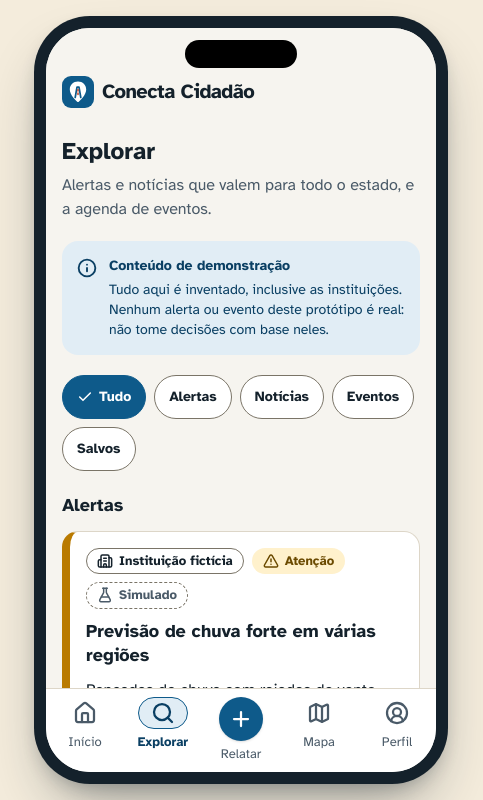
Estado como visitante › o filtro de eventos também mostra o que já aconteceu, identificado
Check: the text "Sessão de cinema ao ar livre" is not shown
Click the button "Eventos": x=373, y=397 [332, 375, 414, 419]
(page scrolled)
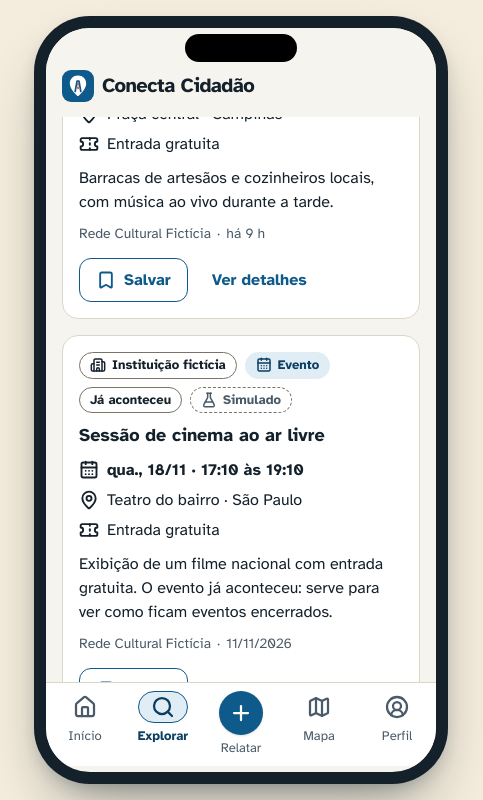
Check: the text "Já aconteceu" is shown, box [79, 386, 182, 413]
